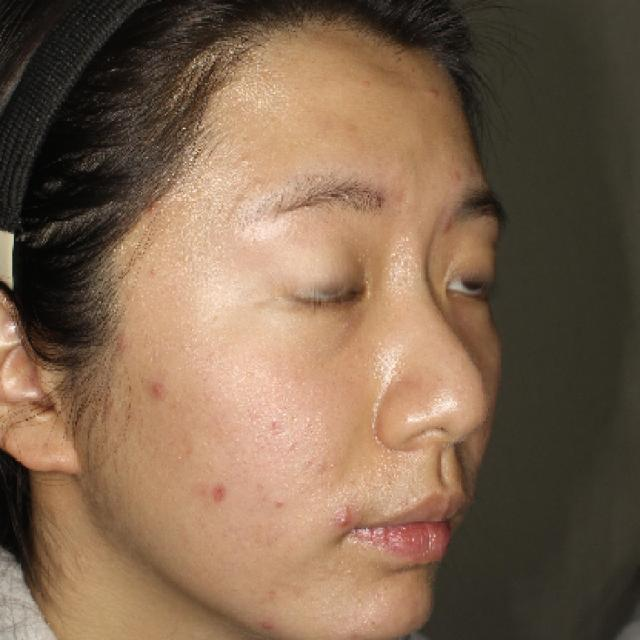Acne: (138, 369, 178, 408)
Blackheads: (331, 508, 357, 529)
Whiteheads: (269, 492, 289, 513)
